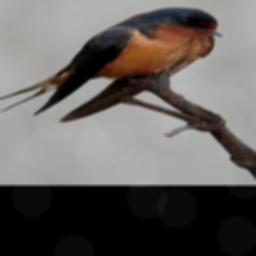Swallow: (0, 5, 225, 121)
